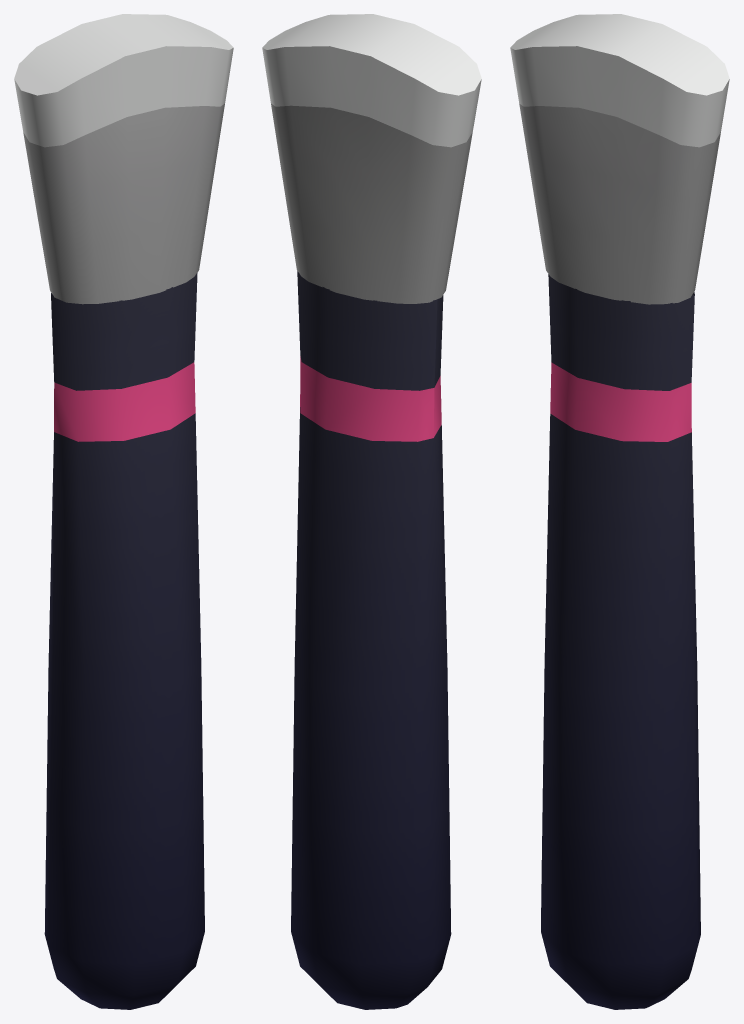
The model's file is Brush_02.fbx.
3 views of the same model, side by side, from view 1: azimuth 30°, elevation 25°; view 2: azimuth 150°, elevation 25°; view 3: azimuth 330°, elevation 25° (orthographic).
Parts seen in each view (by area): view 1: Brush_02; view 2: Brush_02; view 3: Brush_02.
Part boxes in pixels (x1,y1,x2,y2): Brush_02: [14, 14, 233, 1009]; Brush_02: [262, 14, 481, 1009]; Brush_02: [510, 14, 729, 1009].
Size of the model in its own units: 0.0318 by 0.1434 by 0.0185.
Materials: 1 (1 with a texture image).
